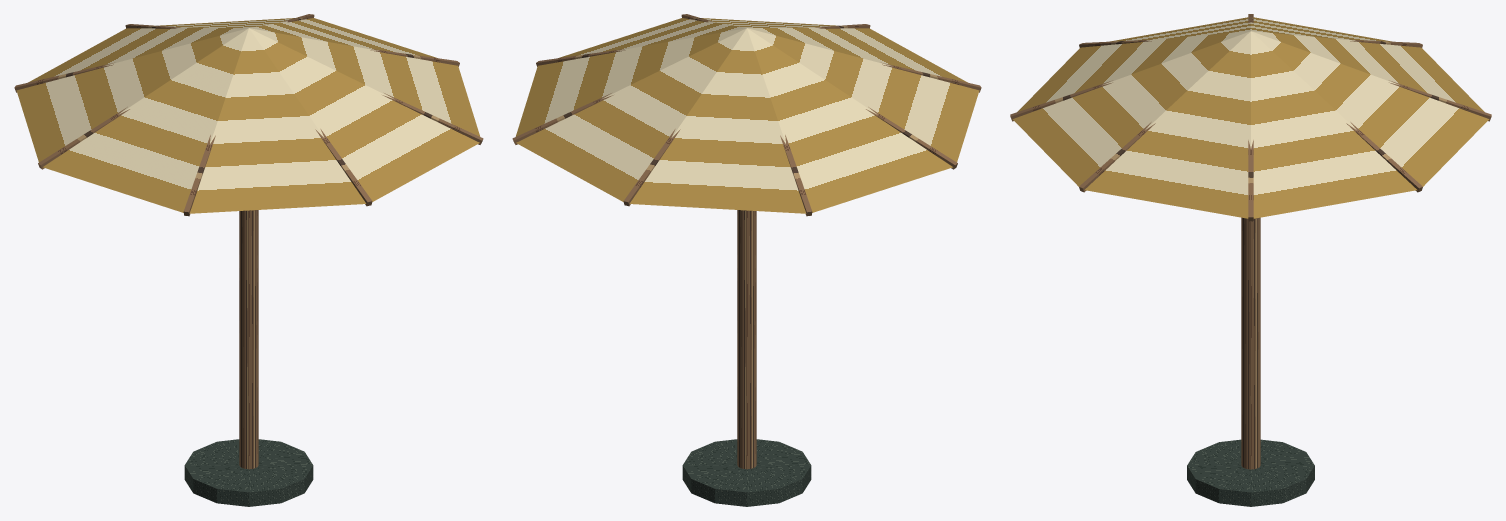
The model's file is umbrella_ochre.gltf.
3 views of the same model, side by side, from view 1: azimuth 30°, elevation 25°; view 2: azimuth 150°, elevation 25°; view 3: azimuth 270°, elevation 25° (orthographic).
Parts seen in each view (by area): view 1: canopy, base, pole, rib (×4); view 2: canopy, base, pole, rib (×4); view 3: canopy, base, pole, rib (×2).
Part boxes in pixels (x1,y1,x2,y2): canopy: (16, 18, 480, 213); base: (184, 439, 313, 506); pole: (239, 210, 258, 469); rib (×4): (38, 93, 483, 216); canopy: (515, 18, 979, 213); base: (682, 439, 811, 506); pole: (737, 210, 756, 469); rib (×4): (512, 93, 957, 216); canopy: (1012, 17, 1489, 218); base: (1187, 439, 1314, 506); pole: (1241, 217, 1260, 469); rib (×2): (1079, 122, 1422, 192).
Bounding box in the file's own units: 1.88 × 1.94 × 1.88.
3 materials, 3 textured.
